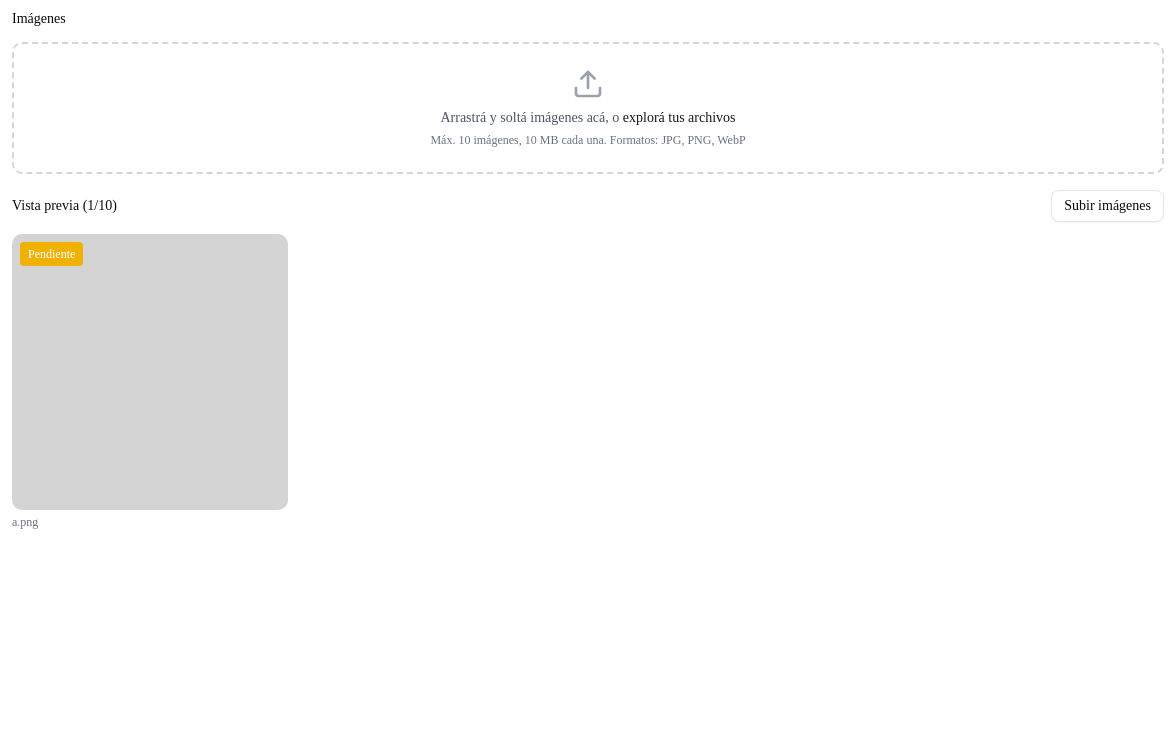
Scenario: ImageUploadComponent: uploading to Cloudinary › shows an error when the upload endpoint fails
Earlier steps of the test are not shown.
Click the button "Subir imágenes" at (1108, 206), box [1051,190,1164,222]
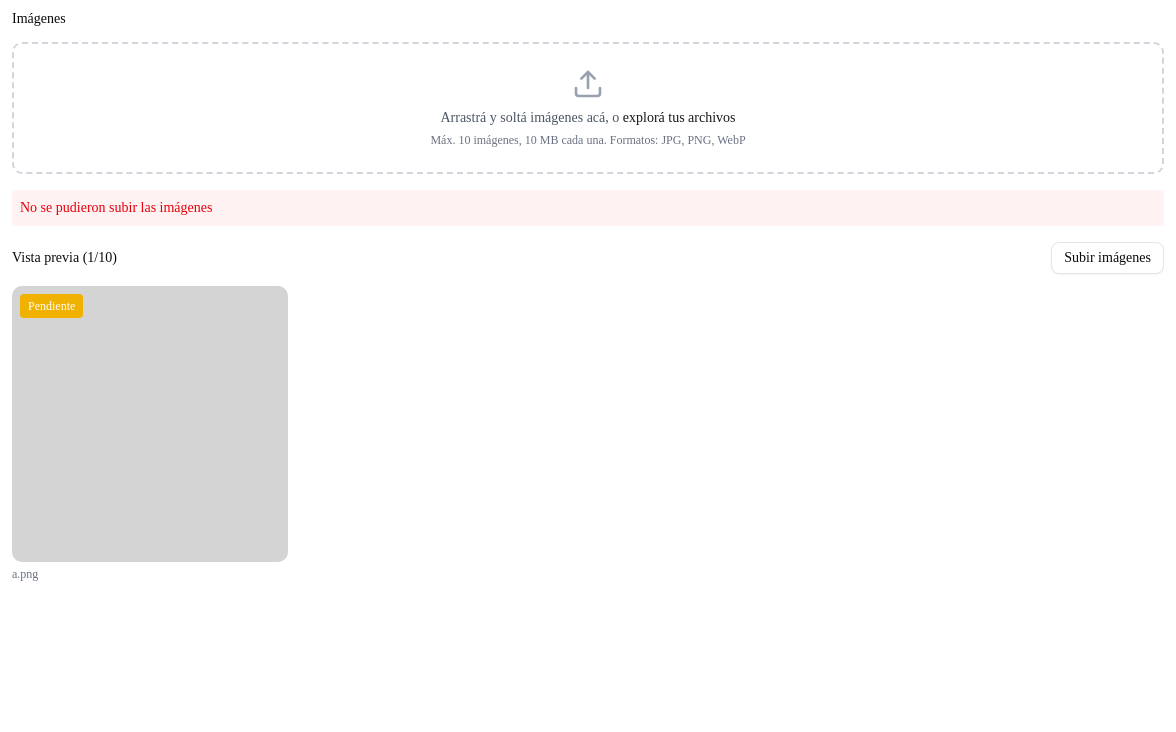
Expected: the text "Pendiente" is shown, [20,294,83,318]
Expected: the text "No se pudieron subir las imágenes" is shown, [12,190,1164,226]
